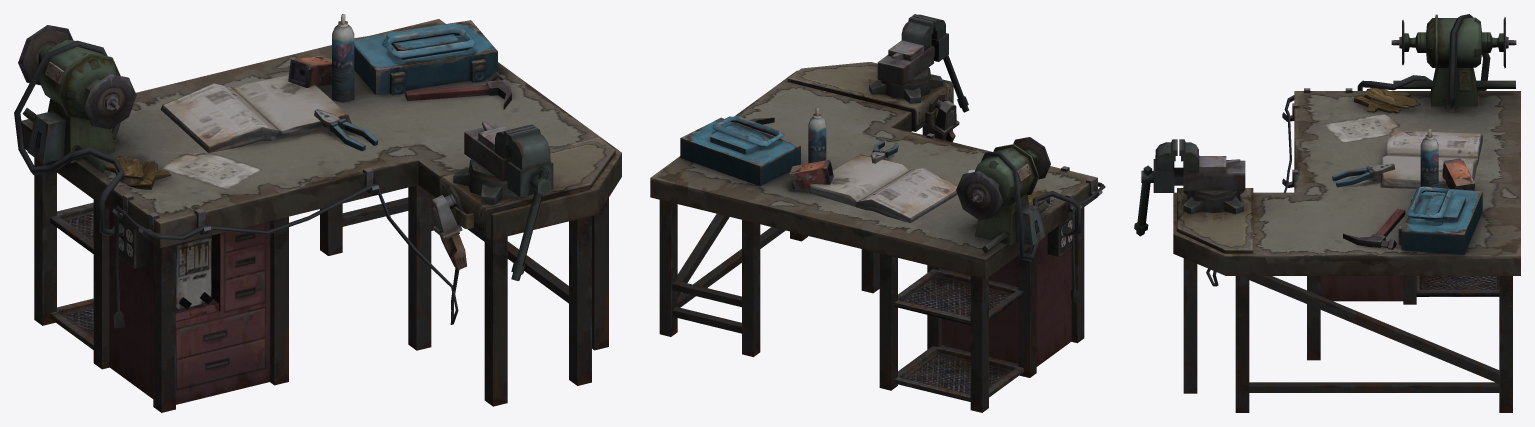
Rendered from RepairStation.FBX.
3 views of the same model, side by side, from view 1: azimuth 30°, elevation 25°; view 2: azimuth 150°, elevation 25°; view 3: azimuth 270°, elevation 25° (orthographic). The views are drawn at different scales.
Visible parts, largest first — view 1: RepairStation; view 2: RepairStation; view 3: RepairStation.
Boxes of the visible parts, x1,y1,x2,y2 form: RepairStation: [14, 14, 621, 412]; RepairStation: [650, 14, 1105, 412]; RepairStation: [1134, 14, 1520, 412].
Size of the model in its own units: 1.92 by 1.23 by 1.78.
1 material, 1 textured.
